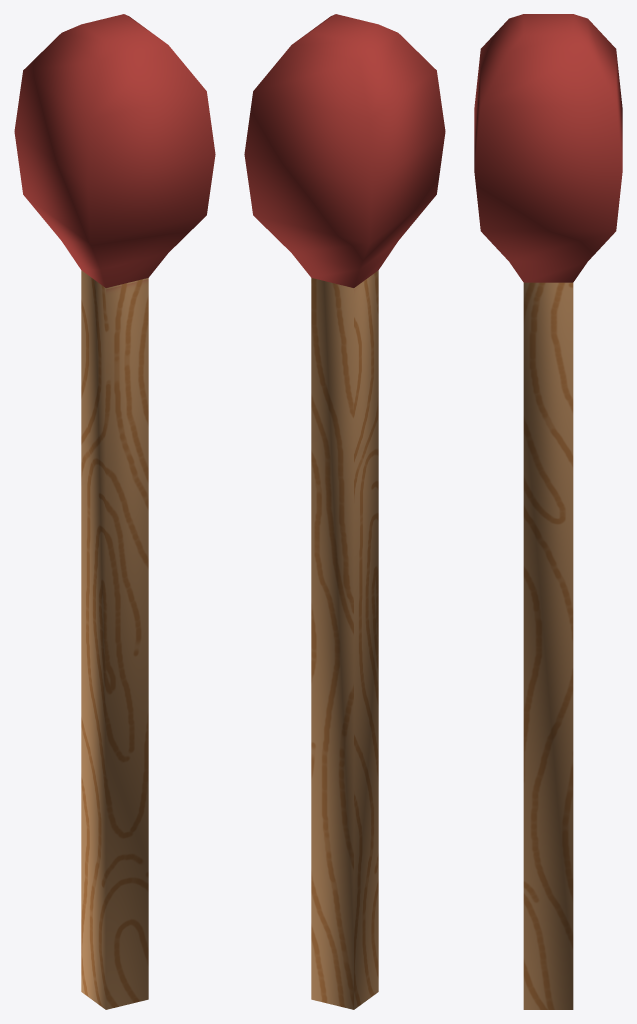
Rendered from cerillo.fbx.
3 views of the same model, side by side, from view 1: azimuth 30°, elevation 25°; view 2: azimuth 150°, elevation 25°; view 3: azimuth 270°, elevation 25° (orthographic).
Visible parts, largest first — view 1: cerillo; view 2: cerillo; view 3: cerillo.
Part boxes in pixels (x1,y1,x2,y2): cerillo: (14, 14, 215, 1009); cerillo: (244, 14, 445, 1009); cerillo: (474, 14, 622, 1009).
Size of the model in its own units: 9.42 by 68.31 by 9.42.
